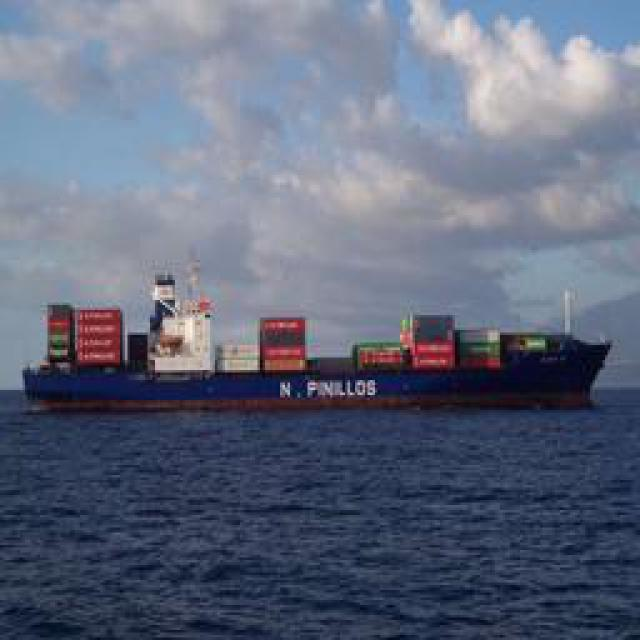Ship: (21, 279, 614, 422)
